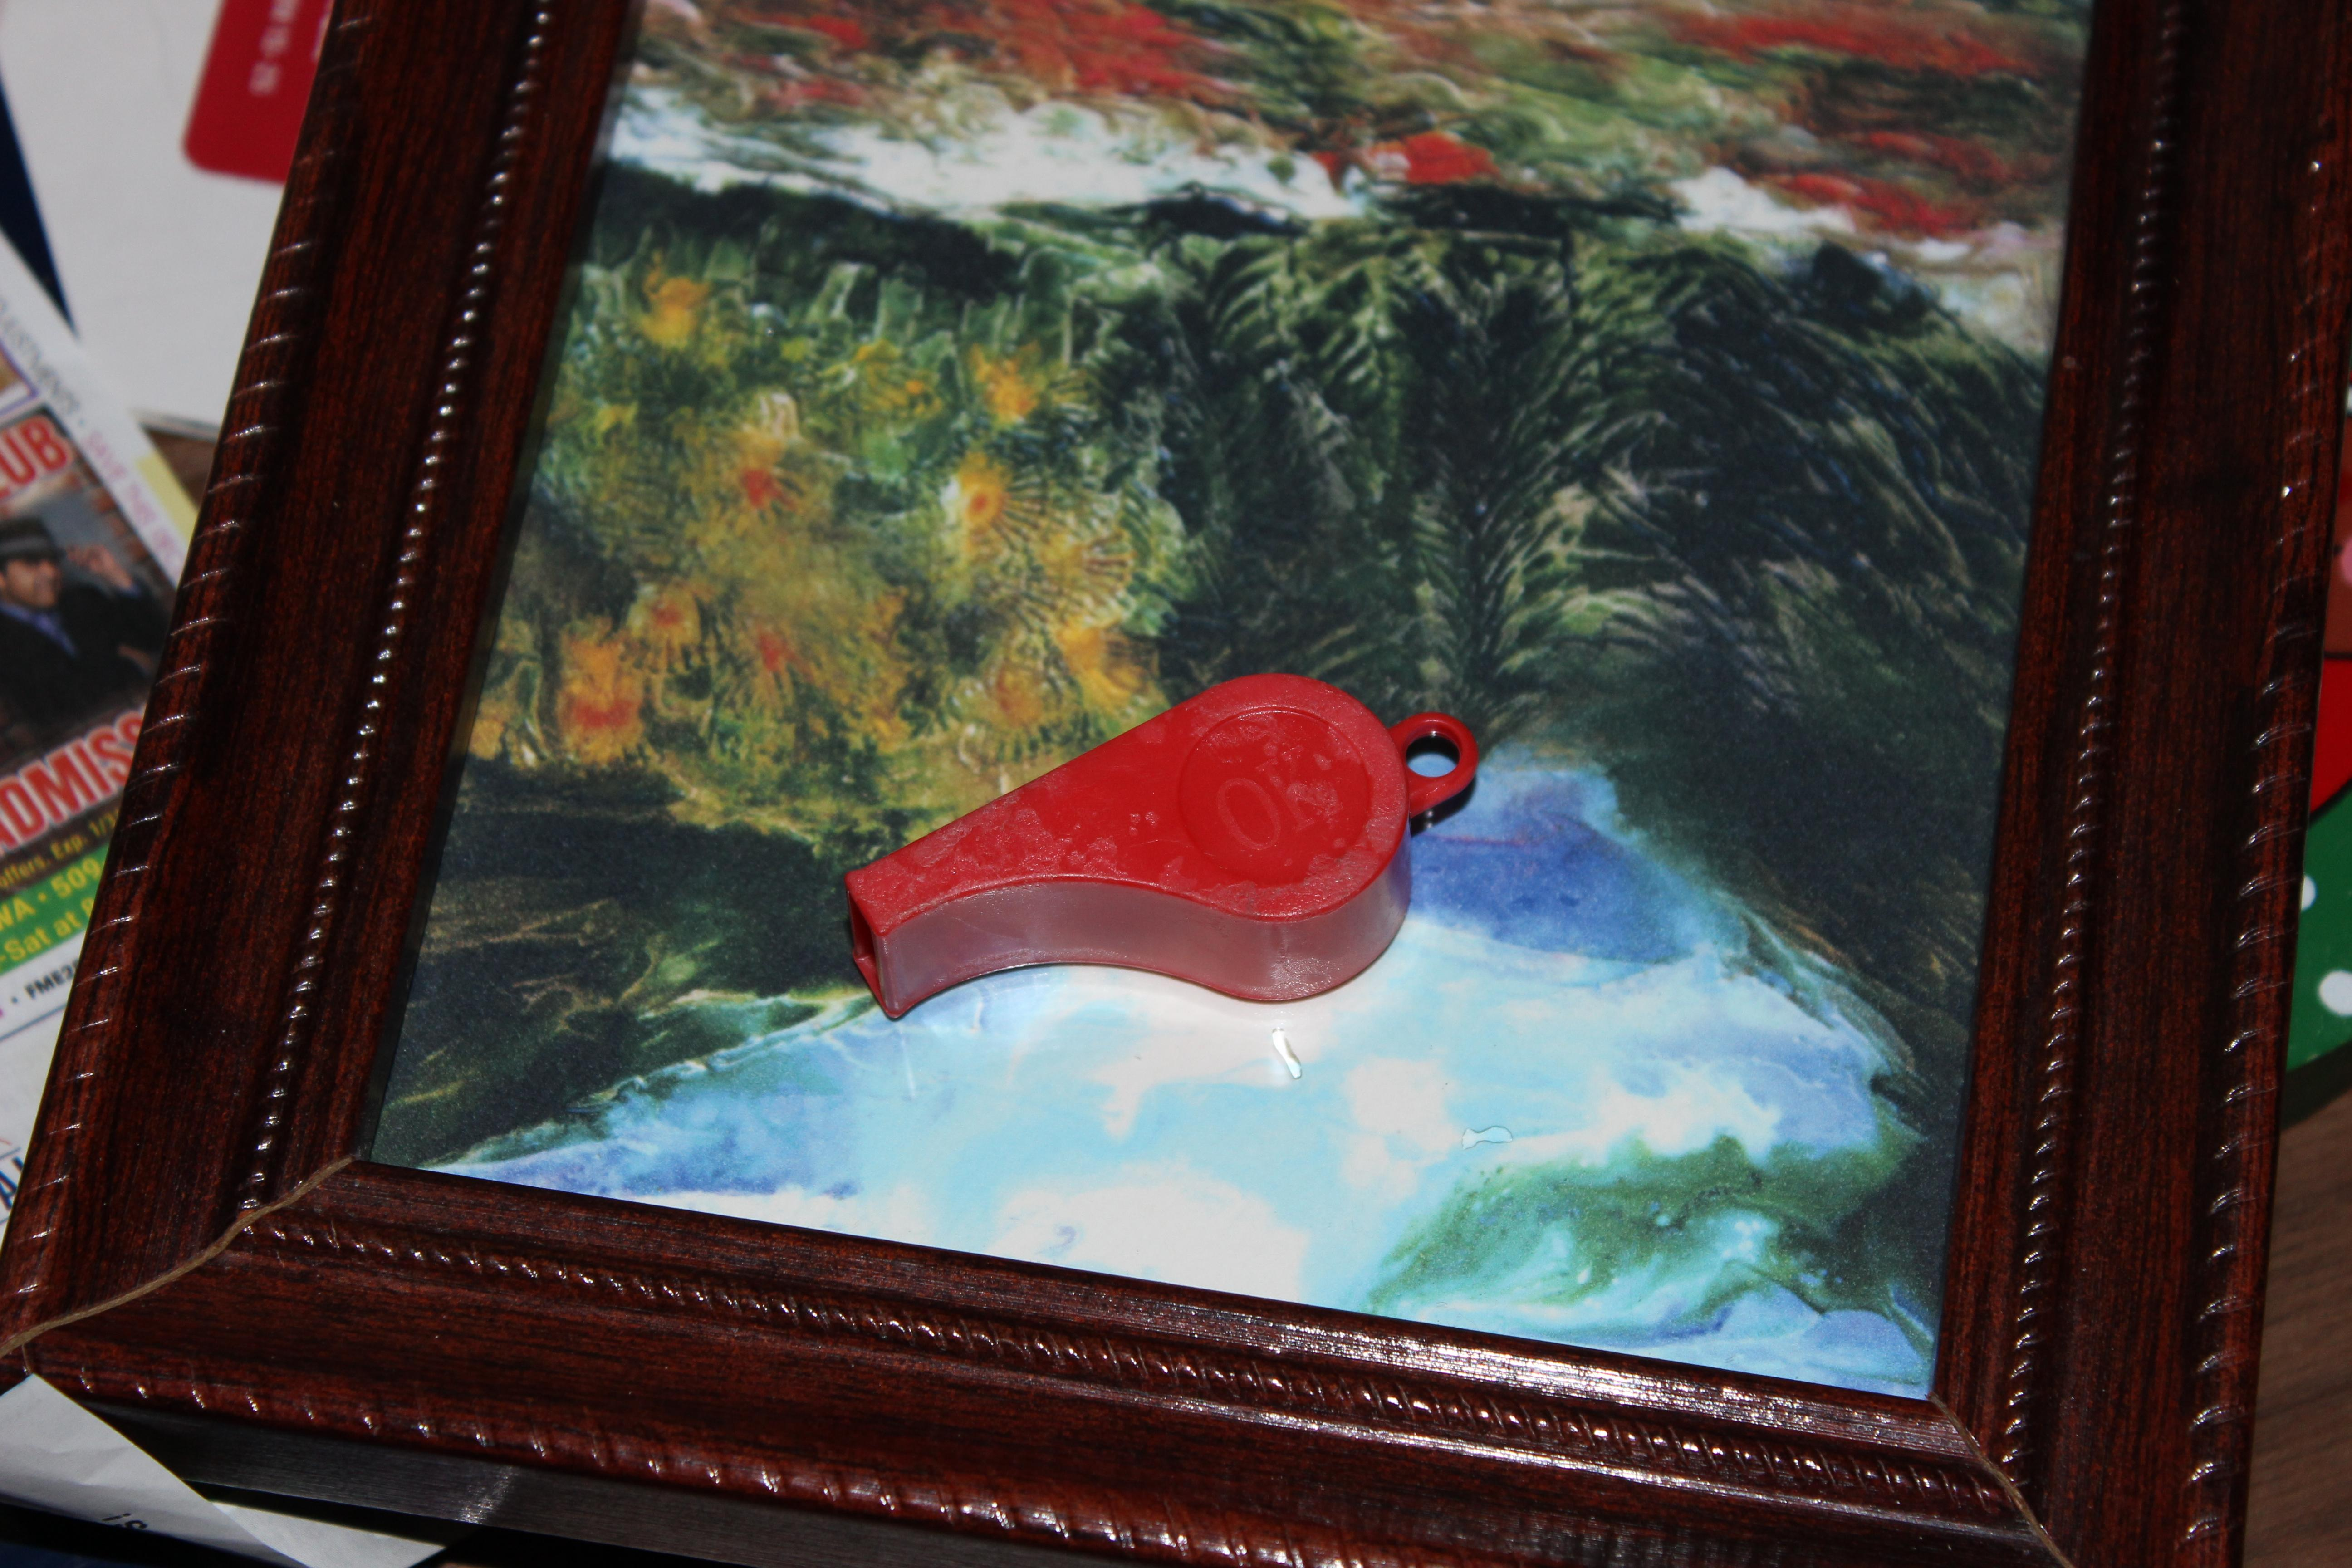redWhistle: (816, 642, 1503, 1046)
